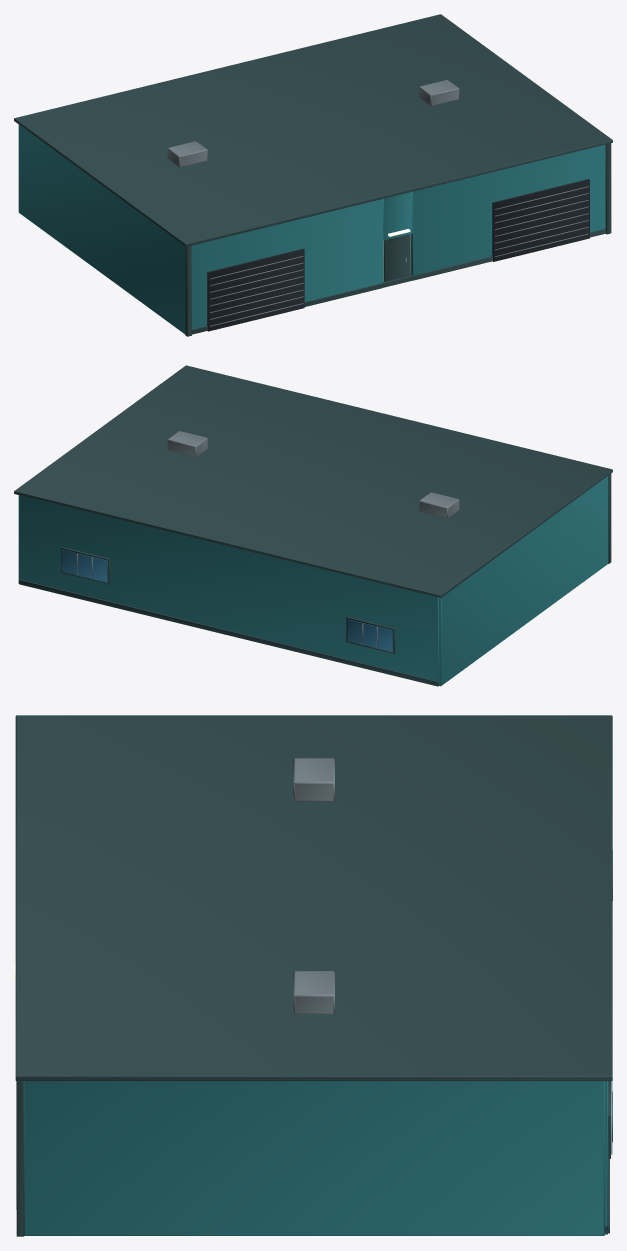
Rendered from north-packing.glb.
3 renders of one model, top to bottom at view 1: azimuth 30°, elevation 25°; view 2: azimuth 150°, elevation 25°; view 3: azimuth 270°, elevation 25°, orthographic. The views are drawn at different scales.
Visible parts, largest first — view 1: roof_0_trim, shell_0_wall, shell_0_dark, shell_0_metal, shell_0_trim, roof_0_metal, door_0_trim; view 2: roof_0_trim, shell_0_wall, shell_0_trim, shell_0_blue, roof_0_metal; view 3: roof_0_trim, shell_0_wall, roof_0_metal, shell_0_trim.
Boxes of the visible parts, bbox=[...] form: roof_0_trim: bbox=[14, 14, 612, 246]; shell_0_wall: bbox=[18, 124, 605, 334]; shell_0_dark: bbox=[207, 179, 589, 331]; shell_0_metal: bbox=[210, 186, 588, 326]; shell_0_trim: bbox=[185, 143, 611, 336]; roof_0_metal: bbox=[167, 80, 459, 167]; door_0_trim: bbox=[384, 234, 410, 281]; roof_0_trim: bbox=[14, 365, 612, 597]; shell_0_wall: bbox=[18, 476, 608, 686]; shell_0_trim: bbox=[18, 473, 611, 686]; shell_0_blue: bbox=[62, 550, 392, 652]; roof_0_metal: bbox=[167, 431, 459, 518]; roof_0_trim: bbox=[15, 715, 612, 1081]; shell_0_wall: bbox=[24, 1081, 608, 1235]; roof_0_metal: bbox=[293, 758, 334, 1013]; shell_0_trim: bbox=[16, 1081, 610, 1236].
Bounding box in the file's own units: 26.5 × 6.2 × 18.56.
